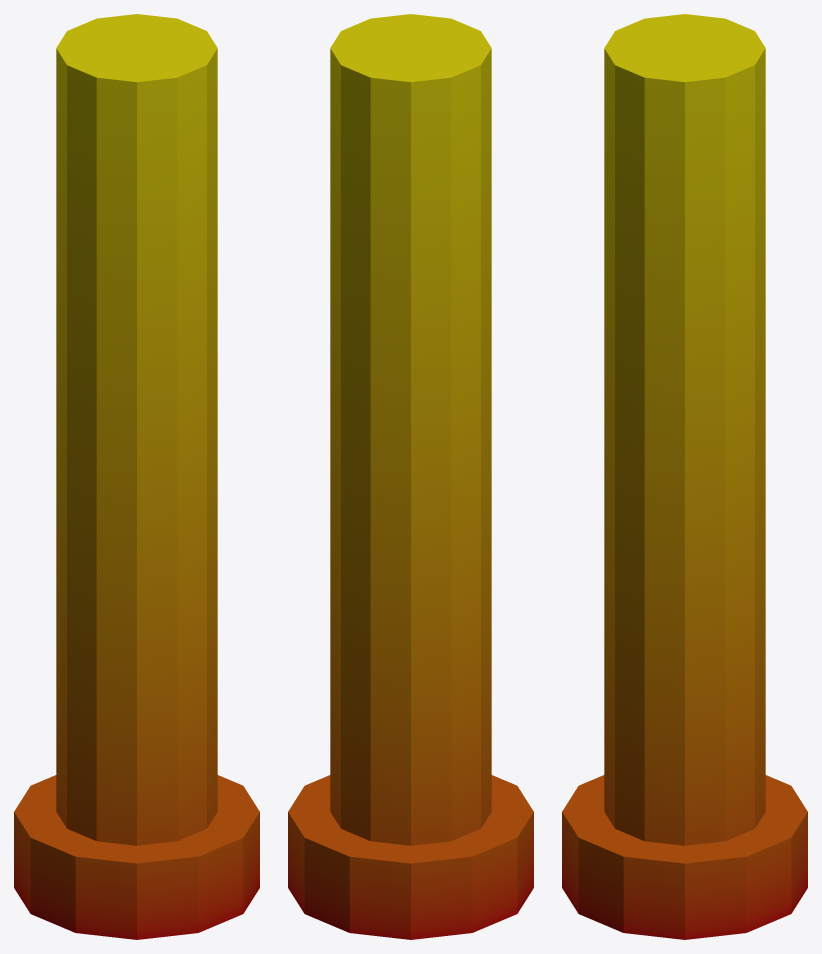
Rendered from column_broken.glb.
3 views of the same model, side by side, from view 1: azimuth 30°, elevation 25°; view 2: azimuth 150°, elevation 25°; view 3: azimuth 270°, elevation 25° (orthographic).
Parts seen in each view (by area): view 1: column_broken; view 2: column_broken; view 3: column_broken.
Part boxes in pixels (bbox=[...]): column_broken: bbox=[14, 14, 259, 939]; column_broken: bbox=[288, 14, 533, 939]; column_broken: bbox=[562, 14, 807, 939].
Size of what is drawn, in the model's own units: 0.7 by 2.64 by 0.7.
